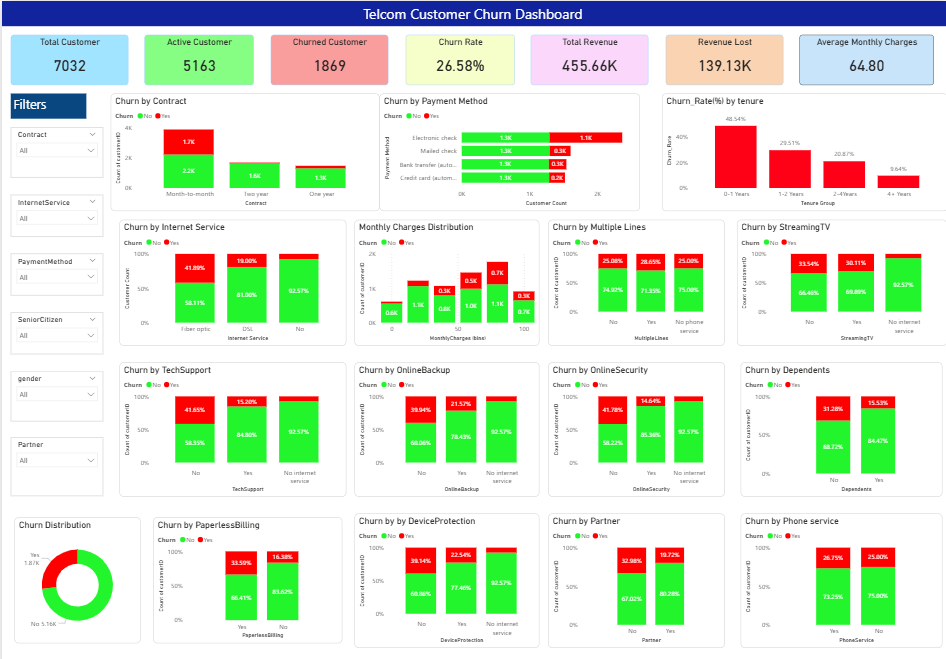

This screenshot's page, from the dashboard's own definition file:
{"tool":"powerbi","page":{"name":"Page 1","canvas":[1800,1278],"ordinal":0},"visuals":[{"type":"textbox","box":[-8,0,1808,48],"z":0},{"type":"card","title":"Total Customer","fields":{"Values":["Telco_Cusomer_Churn.Total_Customer"]},"box":[16,64,224,96],"z":1000},{"type":"card","title":"Churn Rate","fields":{"Values":["Telco_Cusomer_Churn.Churn_Rate"]},"box":[768,64,208,96],"z":2000},{"type":"card","title":"Churned Customer","fields":{"Values":["Telco_Cusomer_Churn.Churned_Customer"]},"box":[512,64,224,96],"z":3000},{"type":"card","title":"Revenue Lost","fields":{"Values":["Telco_Cusomer_Churn.Revenue_Loss"]},"box":[1264,64,224,96],"z":4000},{"type":"card","title":"Active Customer","fields":{"Values":["Telco_Cusomer_Churn.Active_Customer"]},"box":[272,64,208,96],"z":5000},{"type":"card","title":"Total Revenue","fields":{"Values":["Telco_Cusomer_Churn.Total_Revenue"]},"box":[1008,64,224,96],"z":6000},{"type":"card","title":"Average Monthly Charges","fields":{"Values":["Telco_Cusomer_Churn.Avg_Monthly_Charges"]},"box":[1520,64,256,96],"z":7000},{"type":"columnChart","title":" Churn by  Contract ","fields":{"Series":["Telco_Cusomer_Churn.Churn"],"Category":["Telco_Cusomer_Churn.Contract"],"Y":["CountNonNull(Telco_Cusomer_Churn.customerID)"]},"box":[208,176,512,224],"z":8000},{"type":"barChart","title":"Churn by Payment Method","fields":{"Series":["Telco_Cusomer_Churn.Churn"],"Category":["Telco_Cusomer_Churn.PaymentMethod"],"Y":["CountNonNull(Telco_Cusomer_Churn.customerID)"]},"box":[720,176,496,224],"z":9000},{"type":"donutChart","title":"Churn Distribution","fields":{"Category":["Telco_Cusomer_Churn.Churn"],"Y":["CountNonNull(Telco_Cusomer_Churn.Churn)"]},"box":[24,984,240,240],"z":10000},{"type":"columnChart","title":"Churn_Rate(%) by tenure ","fields":{"Category":["Telco_Cusomer_Churn.Tenure Group"],"Y":["Telco_Cusomer_Churn.Churn_Rate"]},"box":[1256,176,544,224],"z":11000},{"type":"hundredPercentStackedColumnChart","title":"Churn by Internet Service","fields":{"Category":["Telco_Cusomer_Churn.InternetService"],"Series":["Telco_Cusomer_Churn.Churn"],"Y":["CountNonNull(Telco_Cusomer_Churn.customerID)"]},"box":[224,416,432,240],"z":12000},{"type":"slicer","fields":{"Values":["Telco_Cusomer_Churn.Contract"]},"box":[16,240,176,96],"z":13000},{"type":"textbox","box":[16,176,144,48],"z":14000},{"type":"slicer","fields":{"Values":["Telco_Cusomer_Churn.InternetService"]},"box":[16,368,176,80],"z":15000},{"type":"slicer","fields":{"Values":["Telco_Cusomer_Churn.PaymentMethod"]},"box":[16,480,176,80],"z":16000},{"type":"columnChart","title":"Monthly Charges Distribution","fields":{"Y":["CountNonNull(Telco_Cusomer_Churn.customerID)"],"Category":["Telco_Cusomer_Churn.MonthlyCharges (bins)"],"Series":["Telco_Cusomer_Churn.Churn"]},"box":[672,416,352,240],"z":17000},{"type":"slicer","fields":{"Values":["Telco_Cusomer_Churn.SeniorCitizen"]},"box":[16,592,176,80],"z":18000},{"type":"slicer","fields":{"Values":["Telco_Cusomer_Churn.gender"]},"box":[16,704,176,96],"z":19000},{"type":"hundredPercentStackedColumnChart","title":"Churn by Multiple Lines","fields":{"Category":["Telco_Cusomer_Churn.MultipleLines"],"Series":["Telco_Cusomer_Churn.Churn"],"Y":["CountNonNull(Telco_Cusomer_Churn.customerID)"]},"box":[1040,416,336,240],"z":20000},{"type":"hundredPercentStackedColumnChart","title":" Churn by StreamingTV ","fields":{"Category":["Telco_Cusomer_Churn.StreamingTV"],"Series":["Telco_Cusomer_Churn.Churn"],"Y":["CountNonNull(Telco_Cusomer_Churn.customerID)"]},"box":[1400,416,400,240],"z":21000},{"type":"hundredPercentStackedColumnChart","title":"Churn by TechSupport ","fields":{"Y":["CountNonNull(Telco_Cusomer_Churn.customerID)"],"Series":["Telco_Cusomer_Churn.Churn"],"Category":["Telco_Cusomer_Churn.TechSupport"]},"box":[224,688,432,256],"z":22000},{"type":"hundredPercentStackedColumnChart","title":"Churn by OnlineBackup","fields":{"Category":["Telco_Cusomer_Churn.OnlineBackup"],"Y":["CountNonNull(Telco_Cusomer_Churn.customerID)"],"Series":["Telco_Cusomer_Churn.Churn"]},"box":[672,688,352,256],"z":23000},{"type":"hundredPercentStackedColumnChart","title":"Churn by OnlineSecurity","fields":{"Category":["Telco_Cusomer_Churn.OnlineSecurity"],"Y":["CountNonNull(Telco_Cusomer_Churn.customerID)"],"Series":["Telco_Cusomer_Churn.Churn"]},"box":[1040,688,336,256],"z":24000},{"type":"hundredPercentStackedColumnChart","title":"Churn by Dependents","fields":{"Category":["Telco_Cusomer_Churn.Dependents"],"Series":["Telco_Cusomer_Churn.Churn"],"Y":["CountNonNull(Telco_Cusomer_Churn.customerID)"]},"box":[1408,688,384,256],"z":25000},{"type":"hundredPercentStackedColumnChart","title":"Churn by PaperlessBilling ","fields":{"Y":["CountNonNull(Telco_Cusomer_Churn.customerID)"],"Category":["Telco_Cusomer_Churn.PaperlessBilling"],"Series":["Telco_Cusomer_Churn.Churn"]},"box":[288,984,360,240],"z":26000},{"type":"hundredPercentStackedColumnChart","title":"Churn by  by DeviceProtection ","fields":{"Category":["Telco_Cusomer_Churn.DeviceProtection"],"Series":["Telco_Cusomer_Churn.Churn"],"Y":["CountNonNull(Telco_Cusomer_Churn.customerID)"]},"box":[672,976,352,256],"z":27000},{"type":"hundredPercentStackedColumnChart","title":"Churn by  Partner ","fields":{"Category":["Telco_Cusomer_Churn.Partner"],"Series":["Telco_Cusomer_Churn.Churn"],"Y":["CountNonNull(Telco_Cusomer_Churn.customerID)"]},"box":[1040,976,336,256],"z":28000},{"type":"hundredPercentStackedColumnChart","title":"Churn by Phone service","fields":{"Category":["Telco_Cusomer_Churn.PhoneService"],"Y":["CountNonNull(Telco_Cusomer_Churn.customerID)"],"Series":["Telco_Cusomer_Churn.Churn"]},"box":[1408,976,384,256],"z":29000},{"type":"slicer","fields":{"Values":["Telco_Cusomer_Churn.Partner"]},"box":[16,832,176,112],"z":29001}]}

Visuals, with their boxes in screenshot pixels (x1, y1, x2, y2), scaled from the page's 1800x1278 canvas onto the 946x659 screenshot:
textbox: 0/0/945/25
"Total Customer" card: 8/33/126/83
"Churn Rate" card: 404/33/513/83
"Churned Customer" card: 269/33/387/83
"Revenue Lost" card: 664/33/782/83
"Active Customer" card: 143/33/252/83
"Total Revenue" card: 530/33/647/83
"Average Monthly Charges" card: 799/33/933/83
" Churn by  Contract " columnChart: 109/91/378/206
"Churn by Payment Method" barChart: 378/91/639/206
"Churn Distribution" donutChart: 13/507/139/631
"Churn_Rate(%) by tenure " columnChart: 660/91/945/206
"Churn by Internet Service" hundredPercentStackedColumnChart: 118/215/345/338
slicer - Telco_Cusomer_Churn.Contract: 8/124/101/173
textbox: 8/91/84/116
slicer - Telco_Cusomer_Churn.InternetService: 8/190/101/231
slicer - Telco_Cusomer_Churn.PaymentMethod: 8/248/101/289
"Monthly Charges Distribution" columnChart: 353/215/538/338
slicer - Telco_Cusomer_Churn.SeniorCitizen: 8/305/101/347
slicer - Telco_Cusomer_Churn.gender: 8/363/101/413
"Churn by Multiple Lines" hundredPercentStackedColumnChart: 547/215/723/338
" Churn by StreamingTV " hundredPercentStackedColumnChart: 736/215/945/338
"Churn by TechSupport " hundredPercentStackedColumnChart: 118/355/345/487
"Churn by OnlineBackup" hundredPercentStackedColumnChart: 353/355/538/487
"Churn by OnlineSecurity" hundredPercentStackedColumnChart: 547/355/723/487
"Churn by Dependents" hundredPercentStackedColumnChart: 740/355/942/487
"Churn by PaperlessBilling " hundredPercentStackedColumnChart: 151/507/341/631
"Churn by  by DeviceProtection " hundredPercentStackedColumnChart: 353/503/538/635
"Churn by  Partner " hundredPercentStackedColumnChart: 547/503/723/635
"Churn by Phone service" hundredPercentStackedColumnChart: 740/503/942/635
slicer - Telco_Cusomer_Churn.Partner: 8/429/101/487
